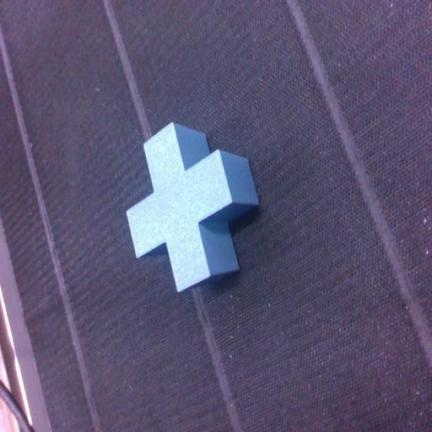cross: (127, 124, 258, 291)
